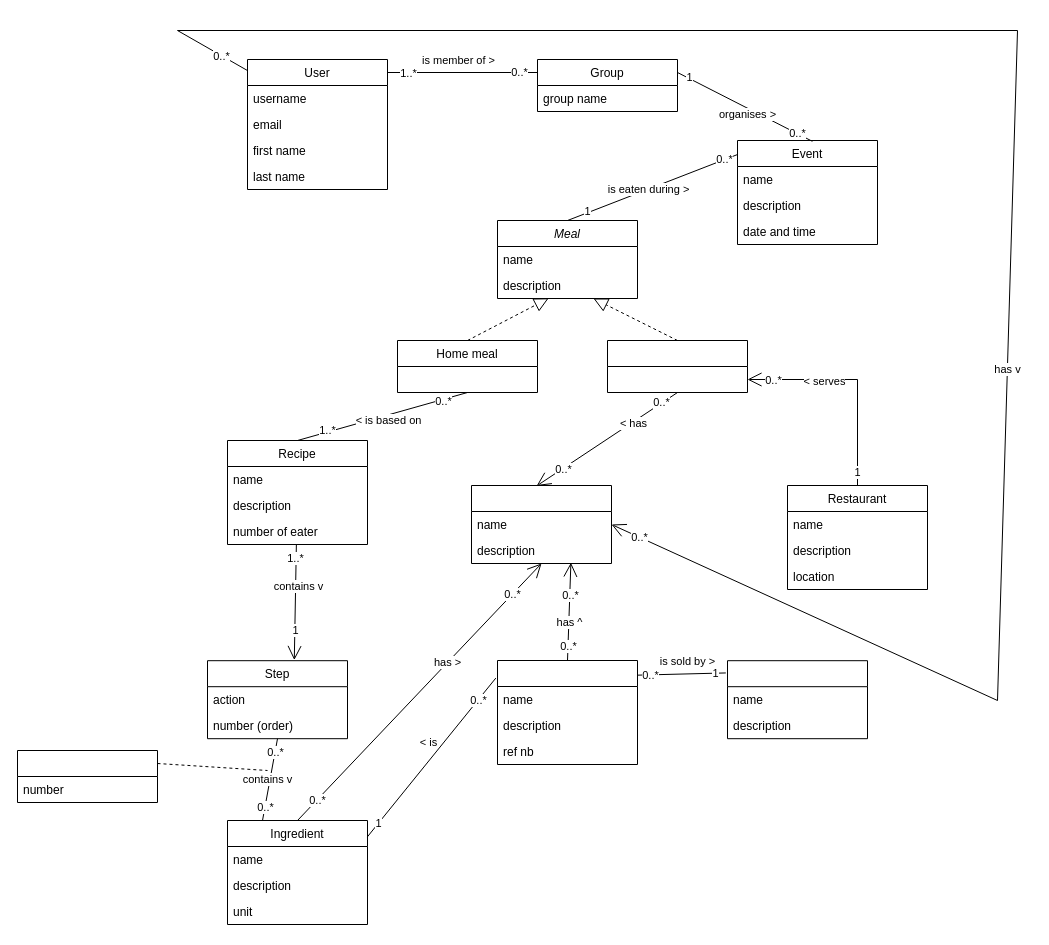
This 1049x945 diagram has some shape labels left out. The box of each missing label's shape, as (x1, y1, x2, y2) in pixels:
Food constraint: (470, 484, 612, 564)
Product: (496, 660, 638, 764)
Provider: (726, 660, 868, 739)
Quantity: (16, 750, 158, 802)
Restaurant meal: (606, 340, 748, 392)
